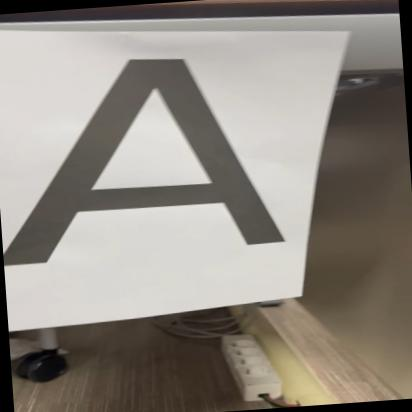seat: (0, 46, 290, 267)
